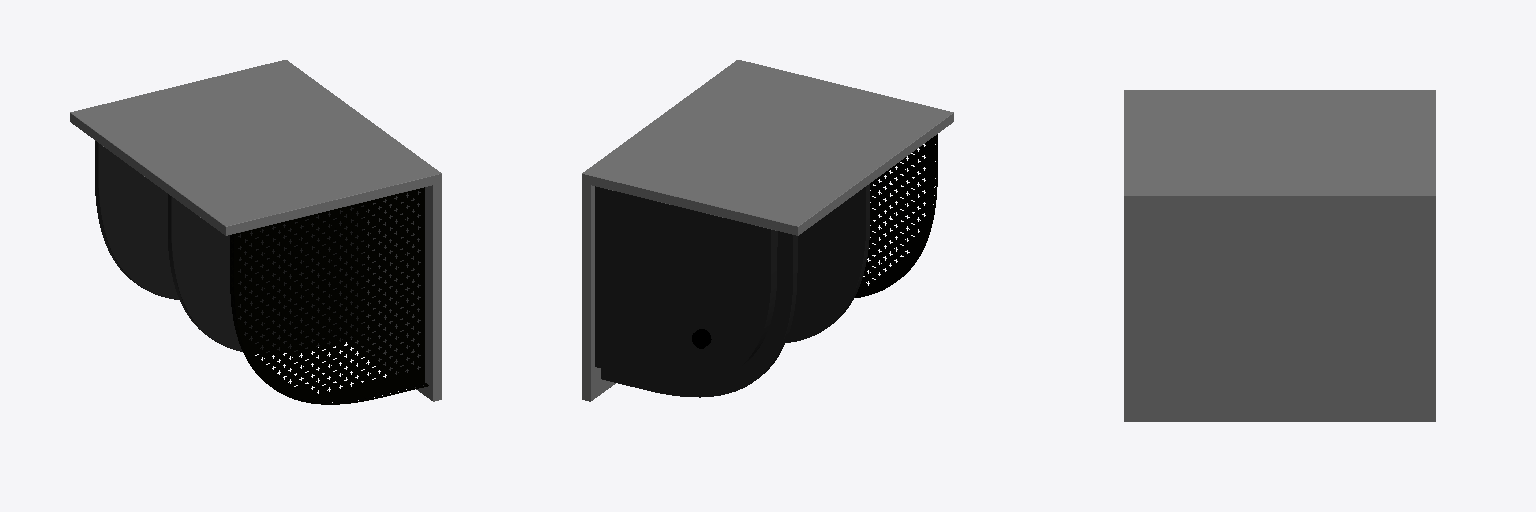
File: Ligne_Roset_Entreves_Bedside_Table.obj
The picture shows the model from 3 angles: view 1: azimuth 30°, elevation 25°; view 2: azimuth 150°, elevation 25°; view 3: azimuth 270°, elevation 25°; orthographic projection.
Parts seen in each view (by area): view 1: Ligne_Roset_Entreves_Bedside_Table; view 2: Ligne_Roset_Entreves_Bedside_Table; view 3: Ligne_Roset_Entreves_Bedside_Table.
Boxes of the visible parts, x1=… form: Ligne_Roset_Entreves_Bedside_Table: x1=70, y1=60, x2=441, y2=404; Ligne_Roset_Entreves_Bedside_Table: x1=582, y1=60, x2=953, y2=401; Ligne_Roset_Entreves_Bedside_Table: x1=1124, y1=90, x2=1435, y2=421.
Bounding box in the file's own units: 40.05 × 40 × 50.01.